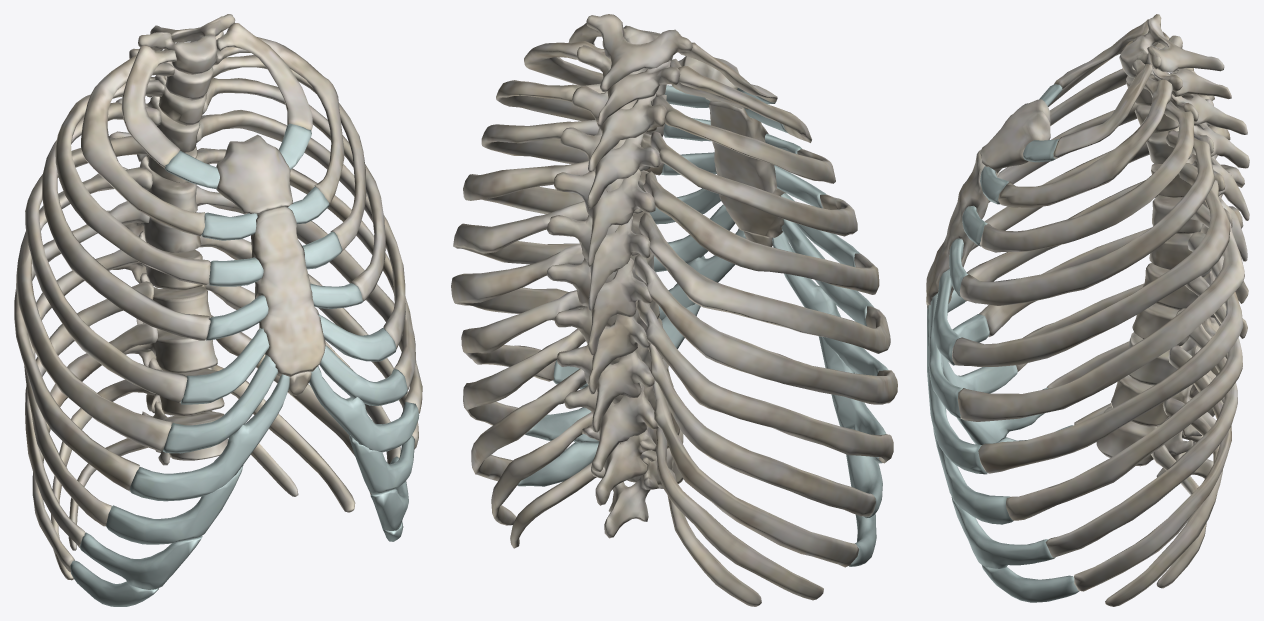
Rendered from thoracic-cage.glb.
3 renders of one model, left to right at view 1: azimuth 30°, elevation 25°; view 2: azimuth 150°, elevation 25°; view 3: azimuth 270°, elevation 25°, orthographic. The views are drawn at different scales.
Parts seen in each view (by area): view 1: Body_of_sternum, Right_6th_rib, Right_4th_rib, Right_5th_rib, Right_3rd_rib, Right_2nd_rib, Right_7th_rib, Right_7th_costal_cartilage, Manubrium, Left_5th_rib, Right_8th_costal_cartilage, Right_8th_rib (+45 smaller); view 2: Right_7th_rib, Right_6th_rib, Right_8th_rib, Right_5th_rib, Right_9th_rib, Right_10th_rib, Right_4th_rib, Body_of_sternum, Left_7th_rib, Right_11th_rib, Left_5th_rib, Left_6th_rib (+40 smaller); view 3: Left_6th_rib, Left_5th_rib, Left_7th_rib, Left_4th_rib, Left_8th_rib, Left_3rd_rib, Left_9th_rib, Left_2nd_rib, Left_10th_rib, Left_11th_rib, Manubrium, Body_of_sternum (+36 smaller).
Boxes of the visible parts, <box> form: Body_of_sternum: <box>251,206,325,376</box>; Right_6th_rib: <box>16,167,171,451</box>; Right_4th_rib: <box>42,102,210,340</box>; Right_5th_rib: <box>25,136,187,403</box>; Right_3rd_rib: <box>55,80,210,285</box>; Right_2nd_rib: <box>81,55,204,236</box>; Right_7th_rib: <box>14,201,149,491</box>; Right_7th_costal_cartilage: <box>130,374,289,501</box>; Manubrium: <box>216,134,293,214</box>; Left_5th_rib: <box>196,110,405,349</box>; Right_8th_costal_cartilage: <box>106,465,243,544</box>; Right_8th_rib: <box>24,243,148,526</box>; Right_7th_rib: <box>634,254,897,404</box>; Right_6th_rib: <box>639,212,890,353</box>; Right_8th_rib: <box>637,300,893,463</box>; Right_5th_rib: <box>643,171,879,294</box>; Right_9th_rib: <box>648,343,875,516</box>; Right_10th_rib: <box>652,380,859,567</box>; Right_4th_rib: <box>650,131,857,236</box>; Body_of_sternum: <box>708,101,786,237</box>; Left_7th_rib: <box>451,244,584,326</box>; Right_11th_rib: <box>656,427,823,600</box>; Left_5th_rib: <box>463,160,588,214</box>; Left_6th_rib: <box>453,201,588,264</box>; Left_6th_rib: <box>957,204,1244,421</box>; Left_5th_rib: <box>952,163,1230,366</box>; Left_7th_rib: <box>978,231,1243,473</box>; Left_4th_rib: <box>959,130,1214,305</box>; Left_8th_rib: <box>1006,276,1242,520</box>; Left_3rd_rib: <box>979,101,1194,252</box>; Left_9th_rib: <box>1045,308,1237,557</box>; Left_2nd_rib: <box>998,77,1172,207</box>; Left_10th_rib: <box>1074,345,1231,591</box>; Left_11th_rib: <box>1105,397,1222,606</box>; Manubrium: <box>980,99,1050,173</box>; Body_of_sternum: <box>926,150,999,305</box>.
Size of the model in its own units: 0.2728 by 0.3676 by 0.2133.
Materials: 59 (59 with a texture image).
